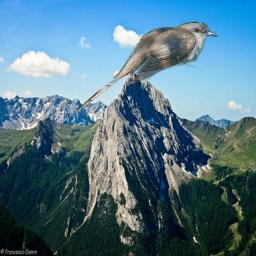Cuckoo: (76, 21, 218, 113)
